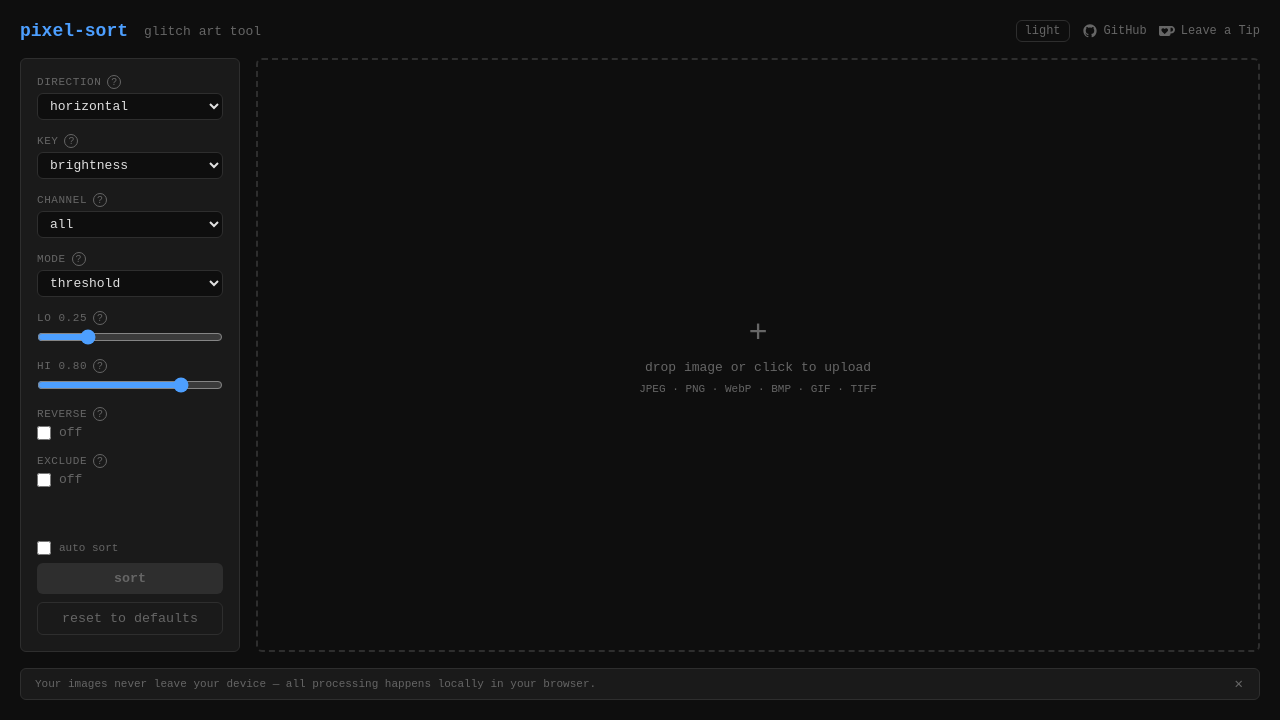
PixelSorter — mask controls › disabling mask hides mode buttons
This screenshot has width=1280, height=720.
Click the checkbox labelled "off" below "exclude".
click(44, 480)  # box [37,472,51,486]
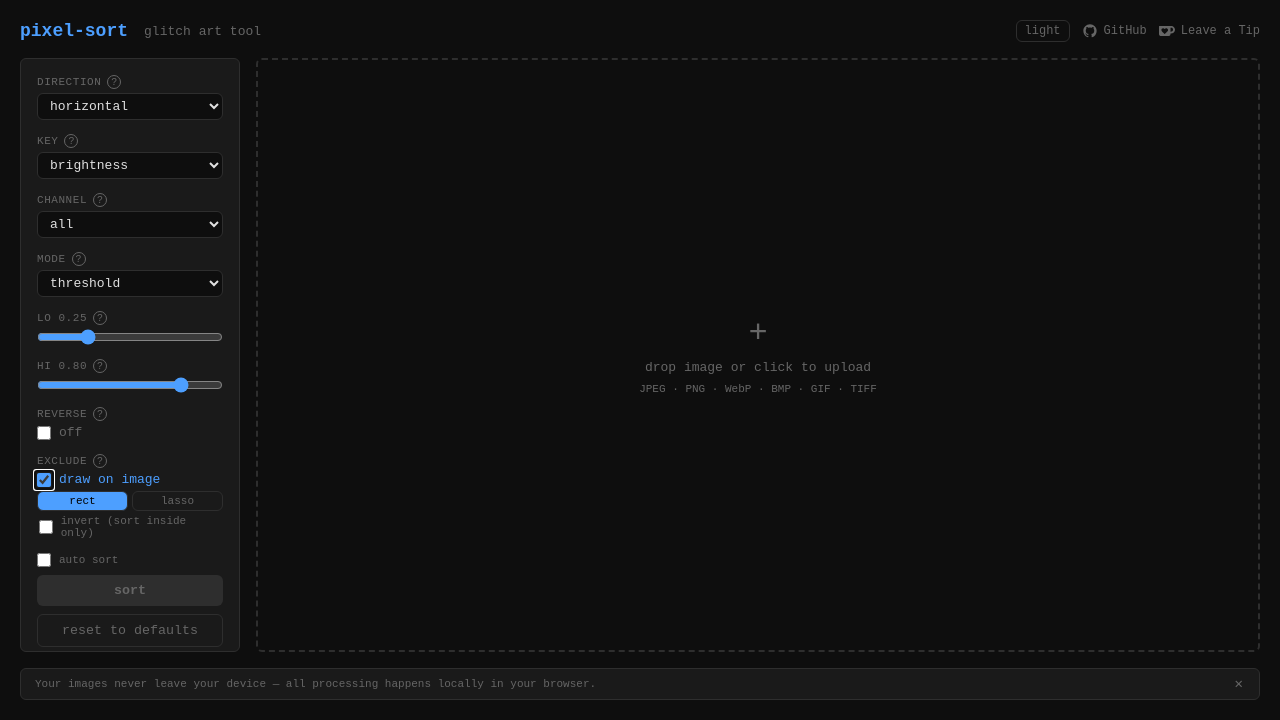
Click the checkbox labelled "draw on image".
click(44, 480)  # box [37,472,51,486]
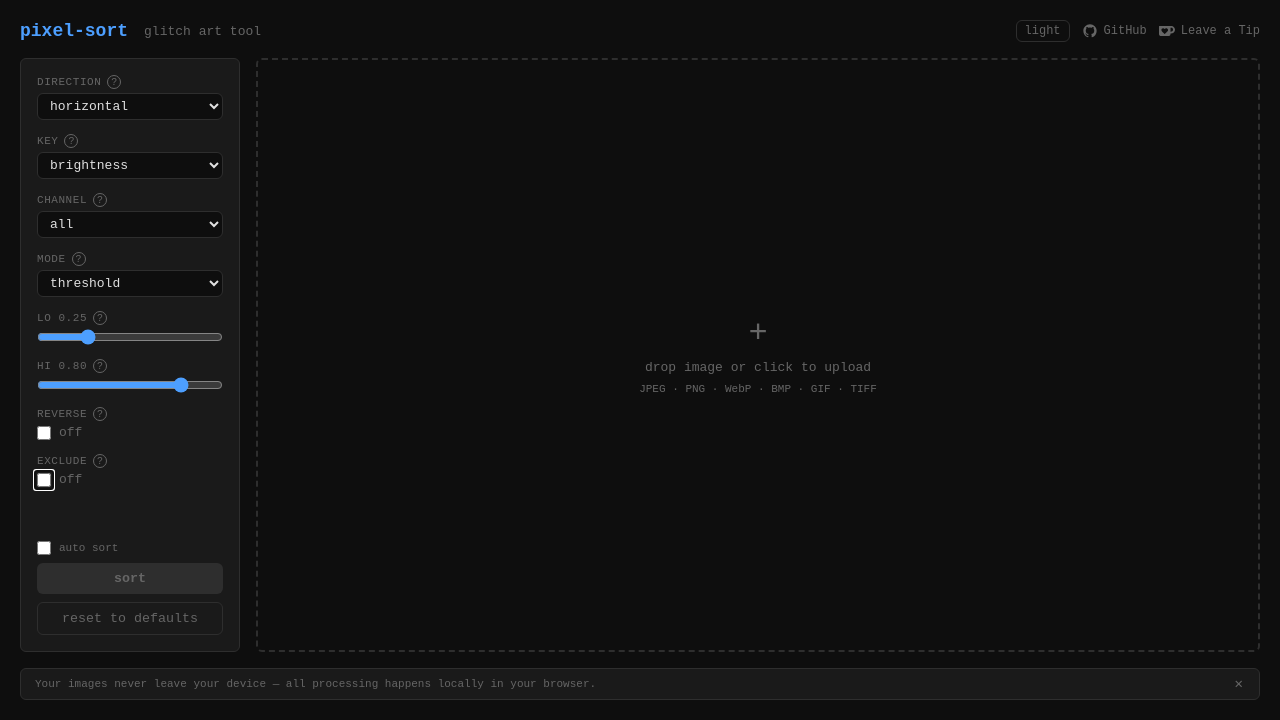
Check: the button "lasso" is gone
